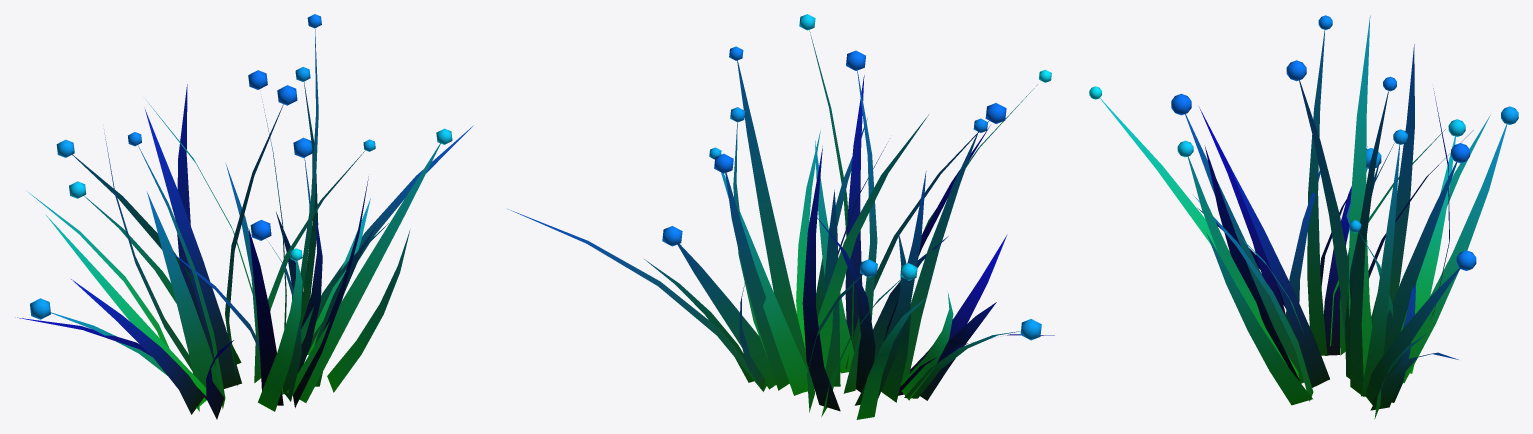
Rendered from Grass_Bioglow.fbx.
3 renders of one model, left to right at view 1: azimuth 30°, elevation 25°; view 2: azimuth 150°, elevation 25°; view 3: azimuth 270°, elevation 25°, orthographic. The views are drawn at different scales.
Visible parts, largest first — view 1: _exp_Grass_Bioglow; view 2: _exp_Grass_Bioglow; view 3: _exp_Grass_Bioglow.
Part boxes in pixels (x1,y1,x2,y2): _exp_Grass_Bioglow: (15, 14, 473, 419); _exp_Grass_Bioglow: (508, 14, 1054, 419); _exp_Grass_Bioglow: (1089, 15, 1518, 418).
Size of the model in its own units: 81.23 by 52.03 by 58.31.
